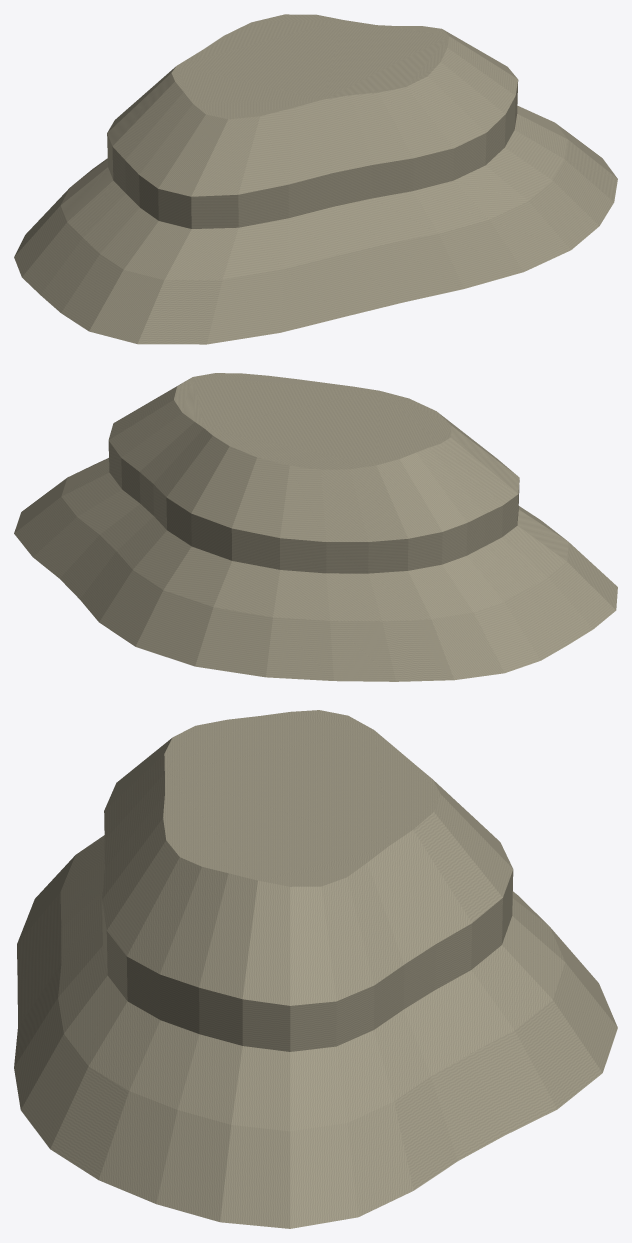
File: aurel-quarry.glb
3 renders of one model, top to bottom at view 1: azimuth 30°, elevation 25°; view 2: azimuth 150°, elevation 25°; view 3: azimuth 270°, elevation 25°, orthographic. The views are drawn at different scales.
Parts seen in each view (by area): view 1: ridge_LOD0; view 2: ridge_LOD0; view 3: ridge_LOD0.
Part boxes in pixels (left/top/right/bottom): ridge_LOD0: left=14, top=14, right=617, bottom=344; ridge_LOD0: left=14, top=373, right=617, bottom=681; ridge_LOD0: left=14, top=710, right=617, bottom=1228.
Size of what is drawn, in the model's own units: 241 by 69.65 by 161.
Materials: 3 (2 with a texture image).
